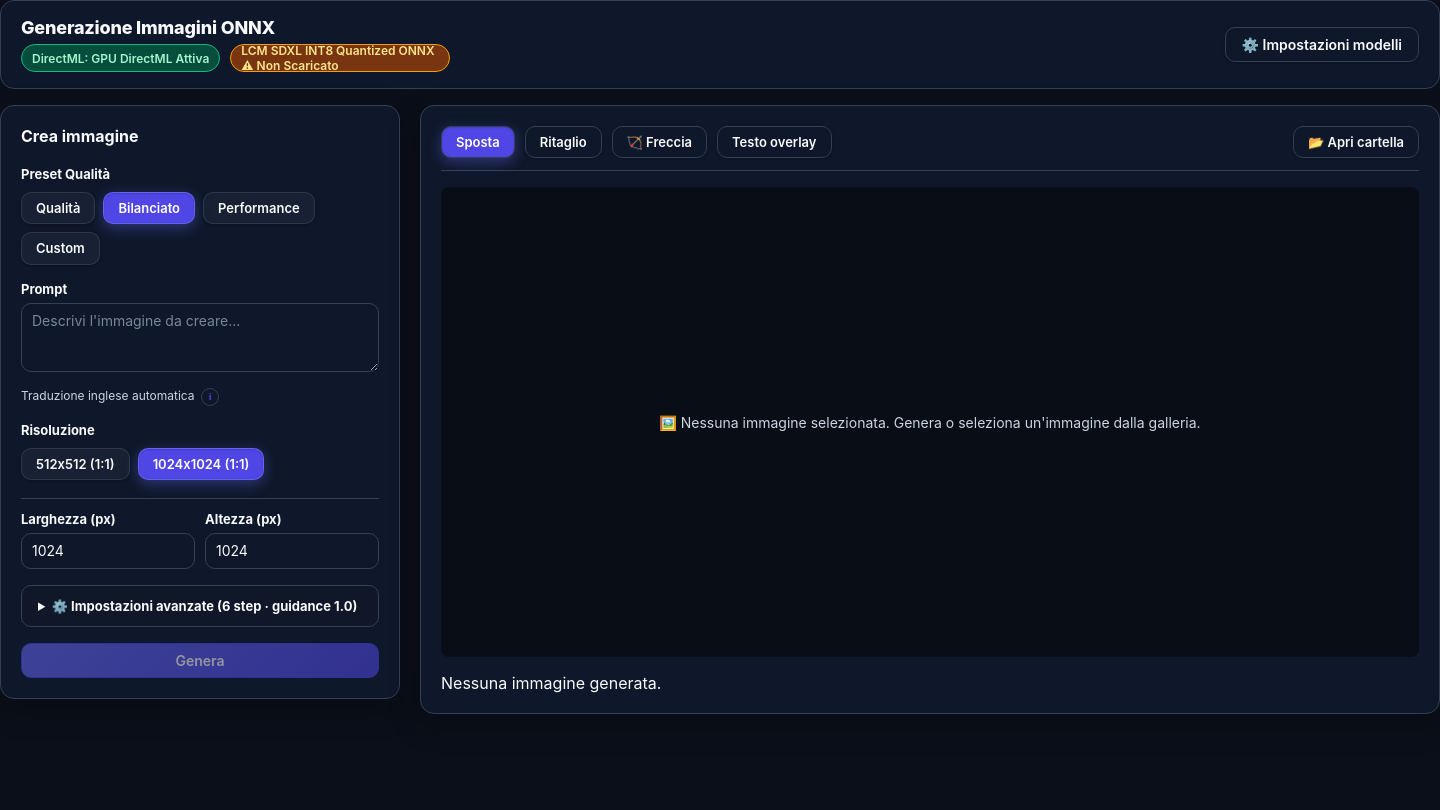
Test: ImagesSection › keeps image settings in a modal with remaining model size
The width and height of the screenshot is (1440, 810).
Expected: the heading "Crea immagine" is shown, [21,126,138,146]
Click the button "⚙️ Impostazioni modelli" at (1322, 45), box [1224,27,1419,62]
(page scrolled)
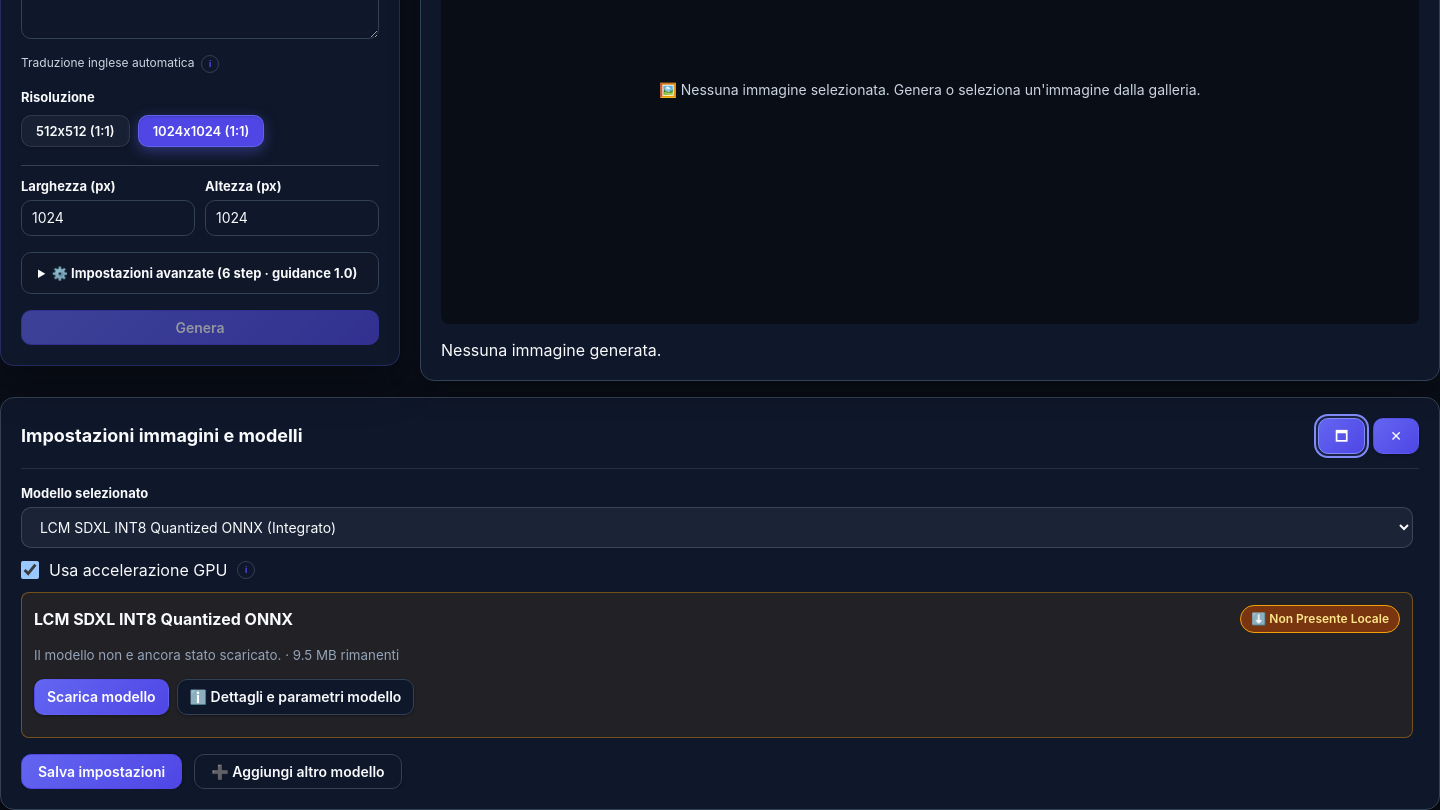
Expected: the dropdown labelled "Modello selezionato" is shown, [21,506,1413,548]
Expected: the text "Il modello non e ancora stato scaricato. · 9.5 MB rimanenti" is shown, [34,646,399,662]
